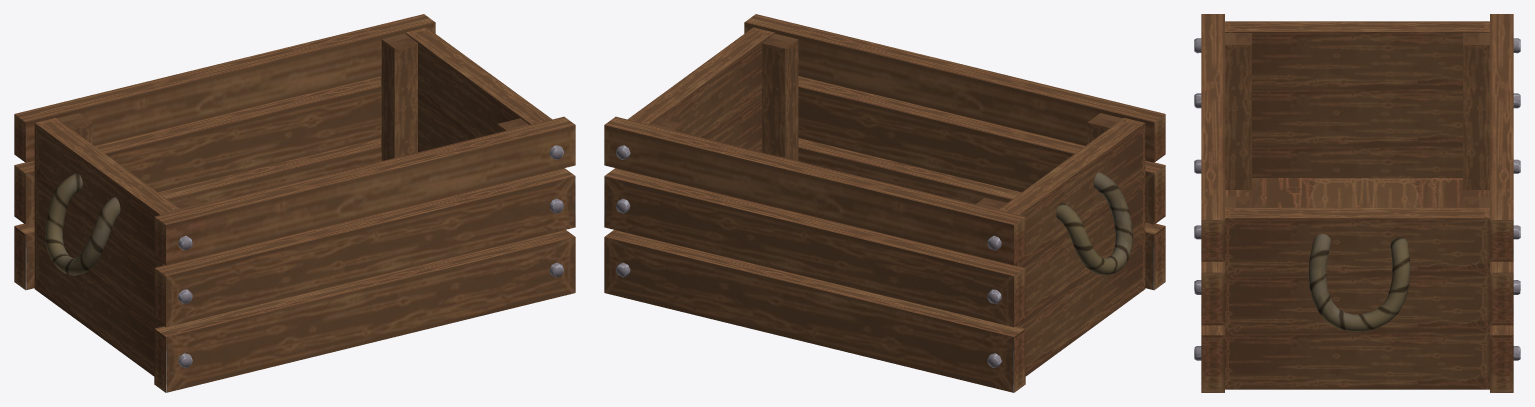
The model's file is FarmCrate_Empty.gltf.
3 views of the same model, side by side, from view 1: azimuth 30°, elevation 25°; view 2: azimuth 150°, elevation 25°; view 3: azimuth 270°, elevation 25° (orthographic). The views are drawn at different scales.
Visible parts, largest first — view 1: FarmCrate_Empty; view 2: FarmCrate_Empty; view 3: FarmCrate_Empty.
Boxes of the visible parts, x1,y1,x2,y2 form: FarmCrate_Empty: (14, 14, 575, 392); FarmCrate_Empty: (604, 14, 1165, 392); FarmCrate_Empty: (1194, 14, 1520, 392).
Bounding box in the file's own units: 0.7138 × 0.2438 × 0.4142.
Materials: 2 (2 with a texture image).
